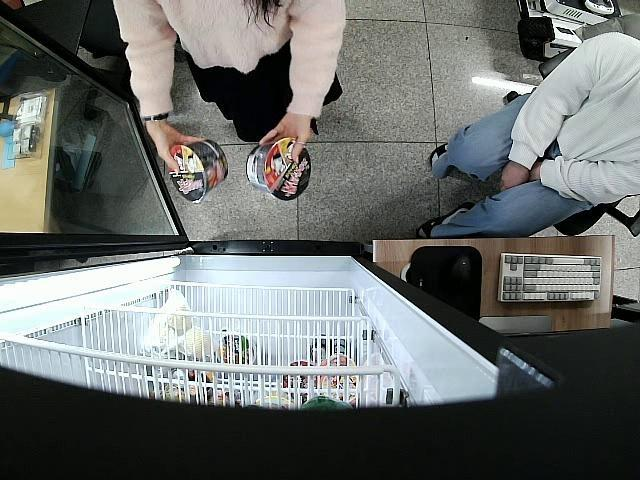07_buldak_L: (169, 140, 230, 204), (247, 138, 310, 198)
